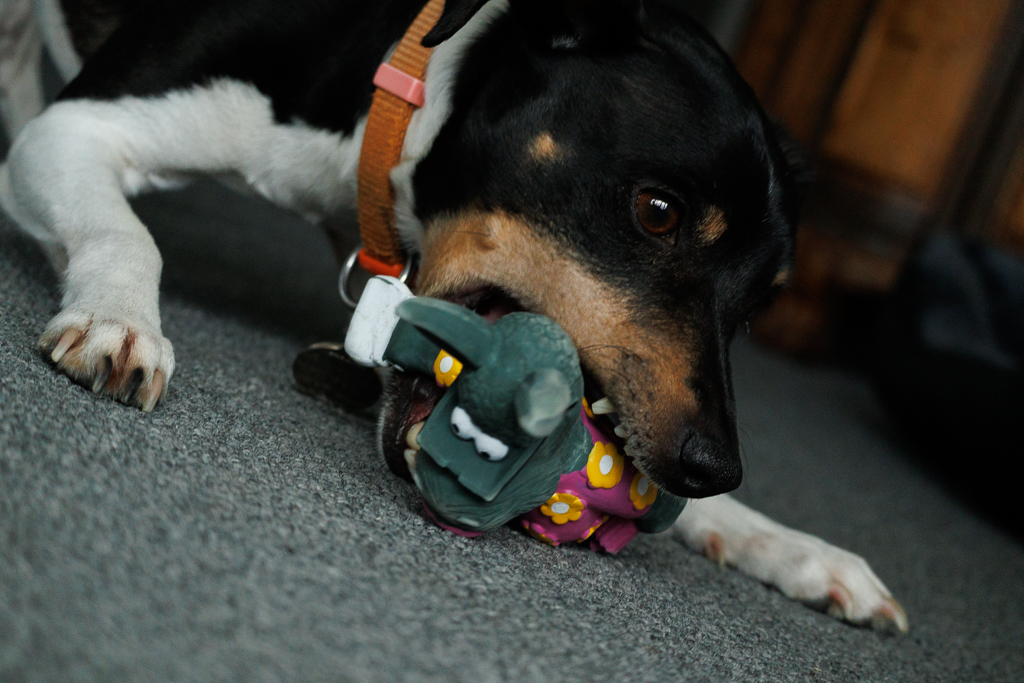Dog: (0, 0, 911, 642)
Humanoid: (278, 253, 701, 579)
